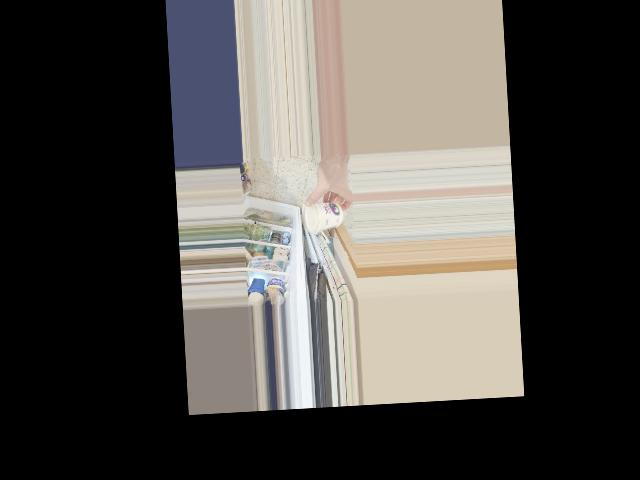cotage: (302, 201, 343, 232)
